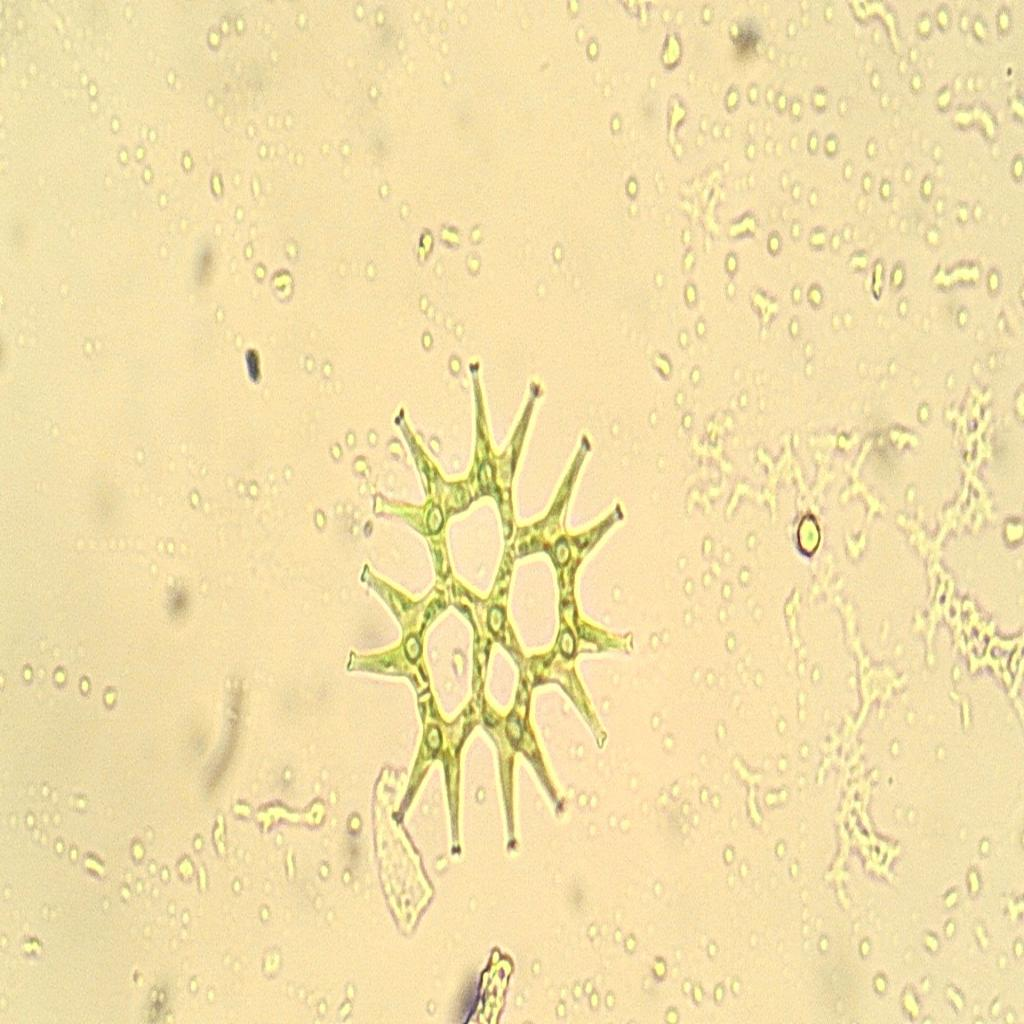Pediastrum_CTH: (334, 338, 647, 891)
